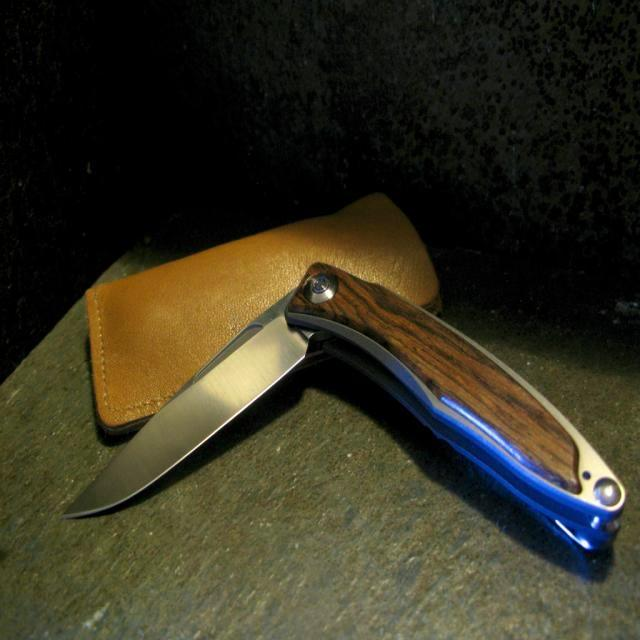Knife: (65, 262, 625, 551)
